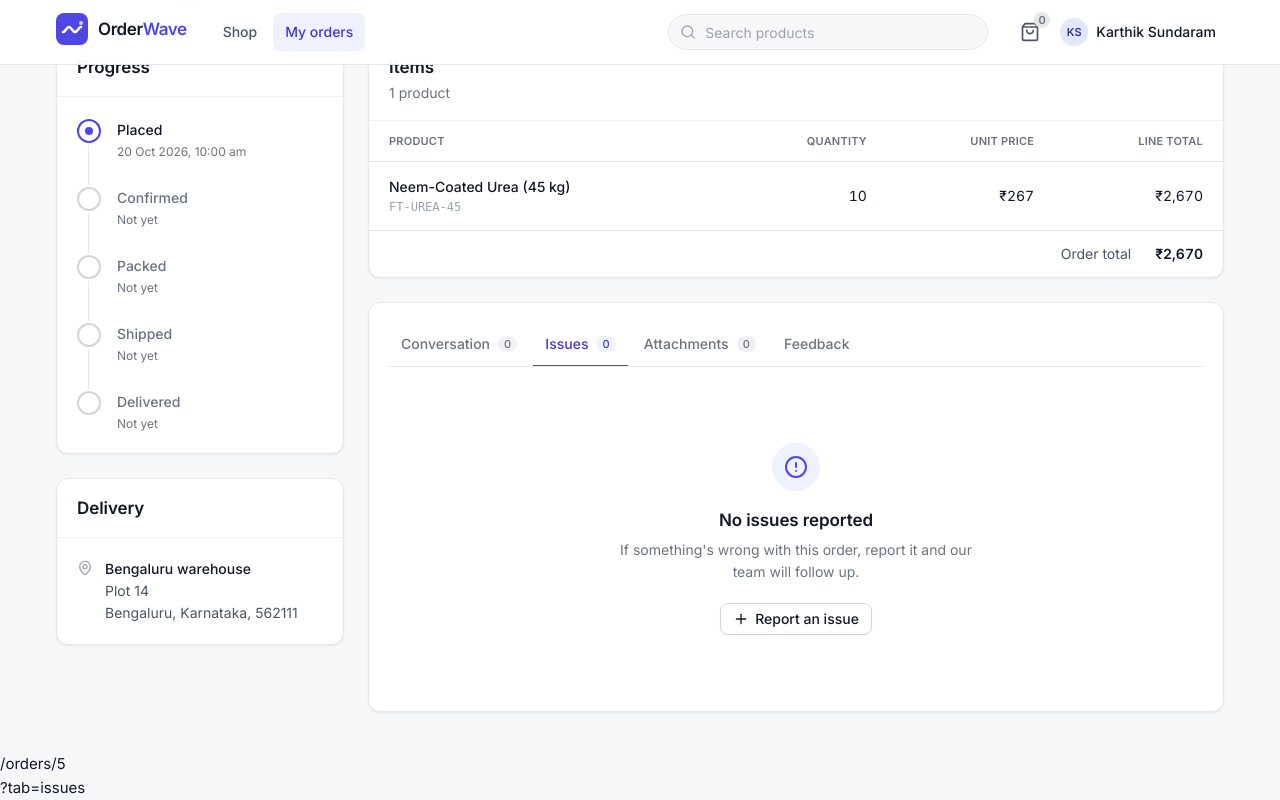
Test case: order detail › validates and reports an issue, then refreshes the list
The width and height of the screenshot is (1280, 800).
(page scrolled)
Click the button "Report an issue" at {"x": 796, "y": 619}, box [720,603,872,635]
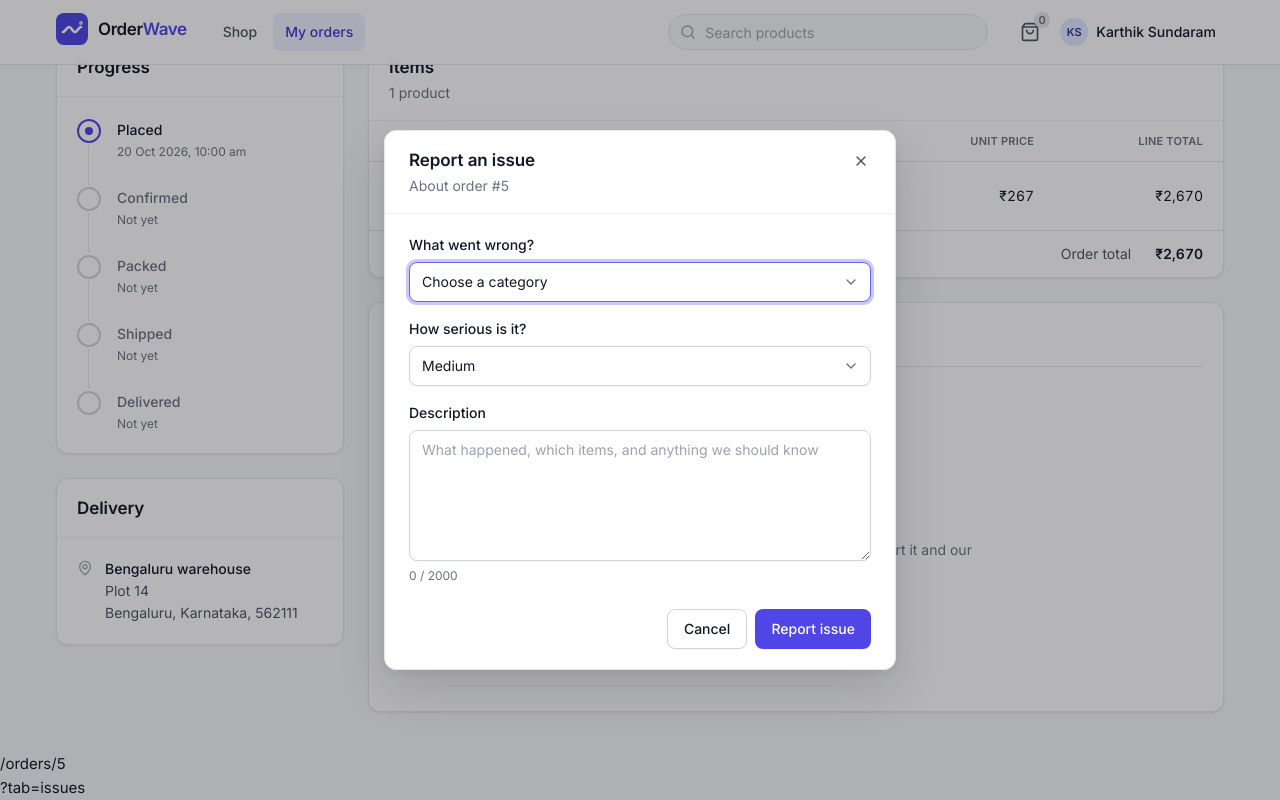
Click the button "Report issue" at {"x": 813, "y": 629}, box [755,609,871,649]
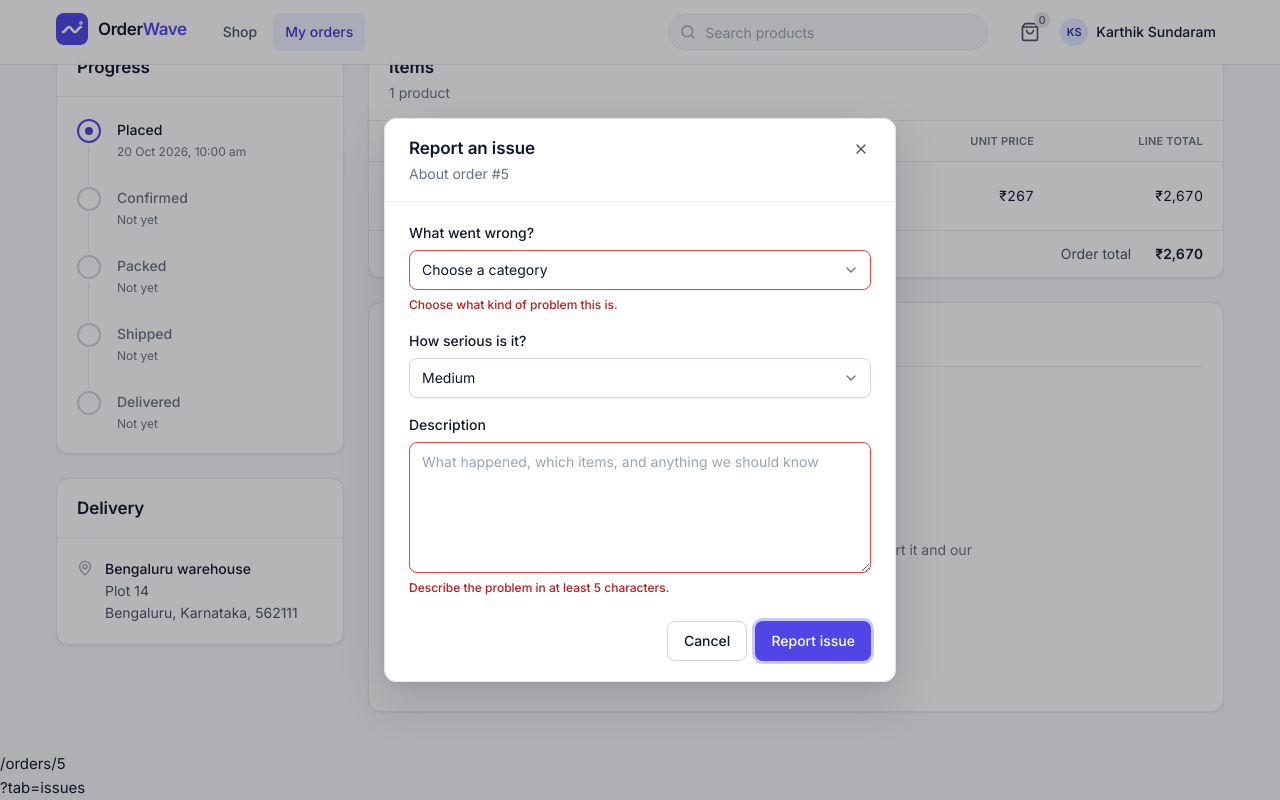
Expected: the text "Choose what kind of problem this is." is shown, [409,297,618,312]
Expected: the text "Describe the problem in at least 5 characters." is shown, [409,580,669,595]
Select "Damaged" in the dropdown labelled "What went wrong?" at {"x": 640, "y": 270}, box [409,250,871,290]
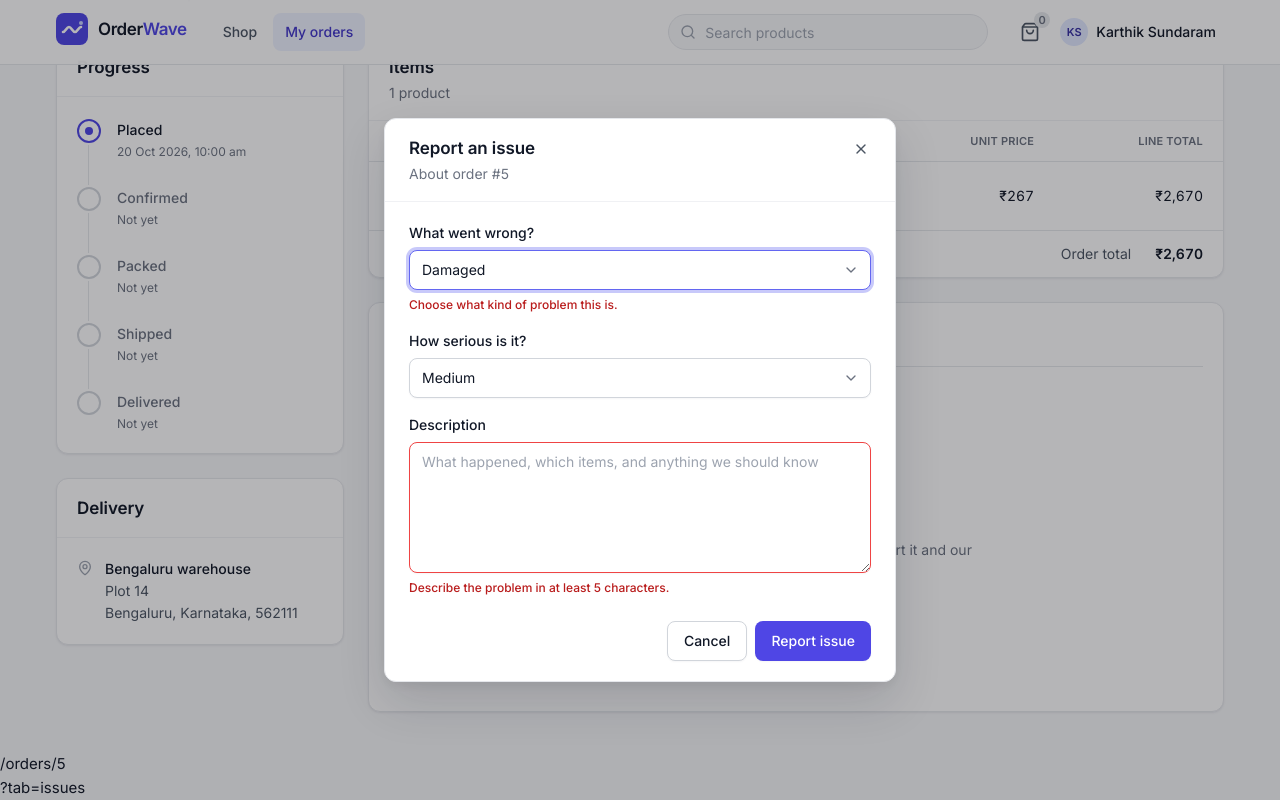
Select "High" in the dropdown labelled "How serious is it?" at {"x": 640, "y": 378}, box [409,358,871,398]
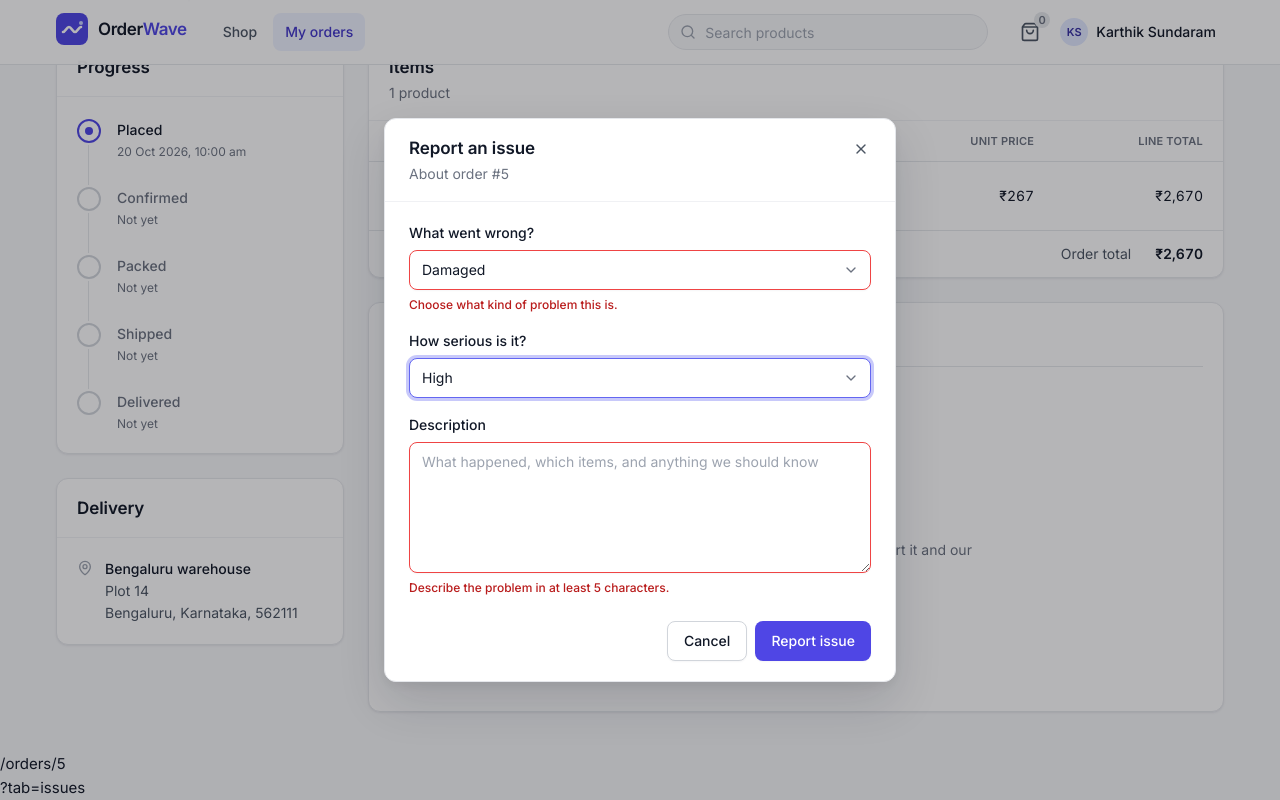
Type "Three bags split open." into the text box labelled "Description" at {"x": 640, "y": 508}, box [409,442,871,573]
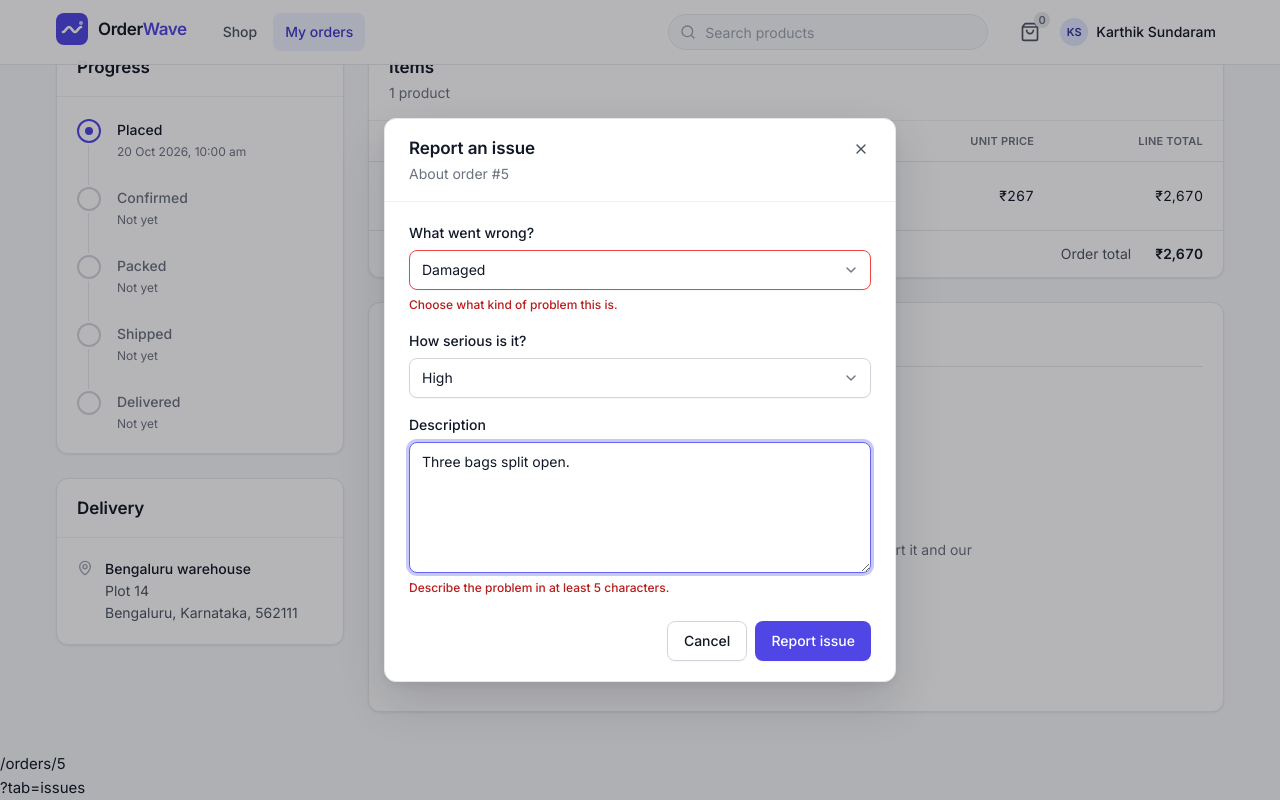
Click the button "Report issue" at {"x": 813, "y": 641}, box [755,621,871,661]
(page scrolled)
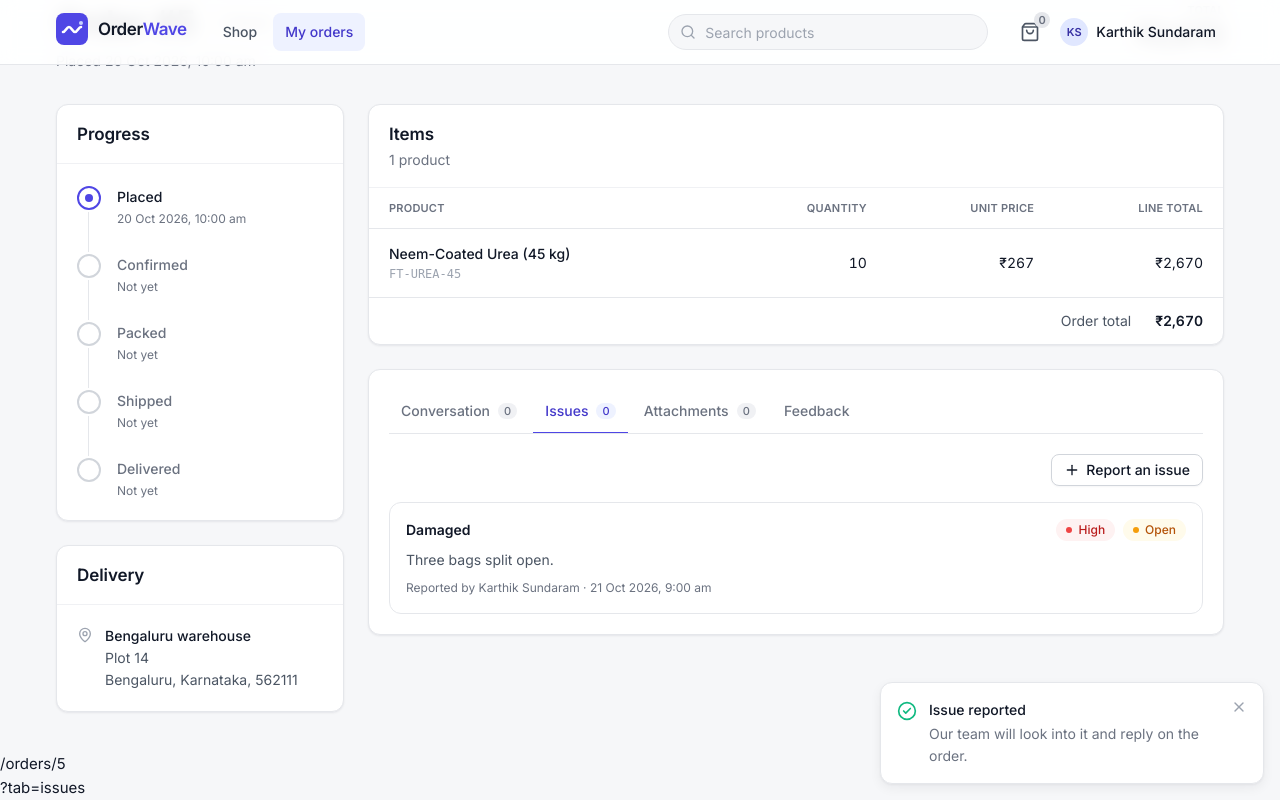
Expected: the text "Three bags split open." is shown, [406,551,554,568]
Expected: the dialog is gone
